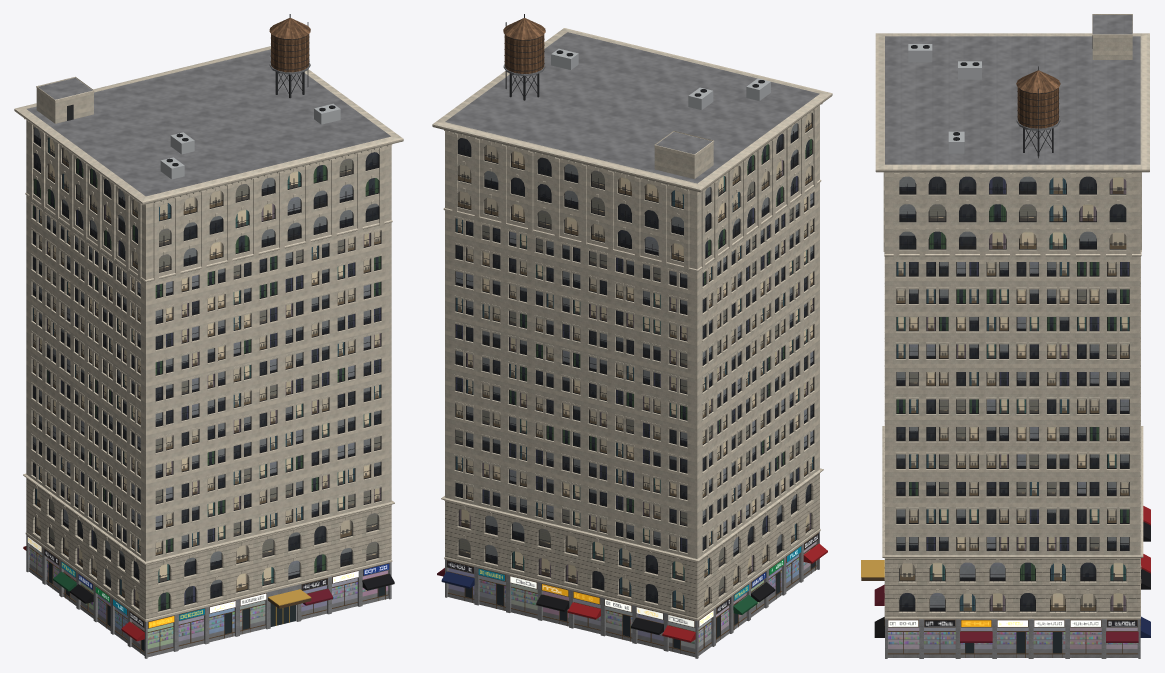
File: hd05_beaux_arts_office.gltf
3 views of the same model, side by side, from view 1: azimuth 30°, elevation 25°; view 2: azimuth 150°, elevation 25°; view 3: azimuth 270°, elevation 25° (orthographic). The views are drawn at different scales.
Parts seen in each view (by area): view 1: hd05_beaux_arts_office_LOD0; view 2: hd05_beaux_arts_office_LOD0; view 3: hd05_beaux_arts_office_LOD0.
Part boxes in pixels (x1,y1,x2,y2): hd05_beaux_arts_office_LOD0: [14, 14, 403, 658]; hd05_beaux_arts_office_LOD0: [432, 14, 832, 658]; hd05_beaux_arts_office_LOD0: [861, 14, 1150, 658].
Size of what is drawn, in the model's own units: 40.6 by 79.75 by 36.32.
Materials: 21 (8 with a texture image).
